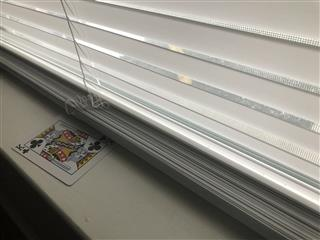KingOfClubs: (10, 113, 118, 186)
